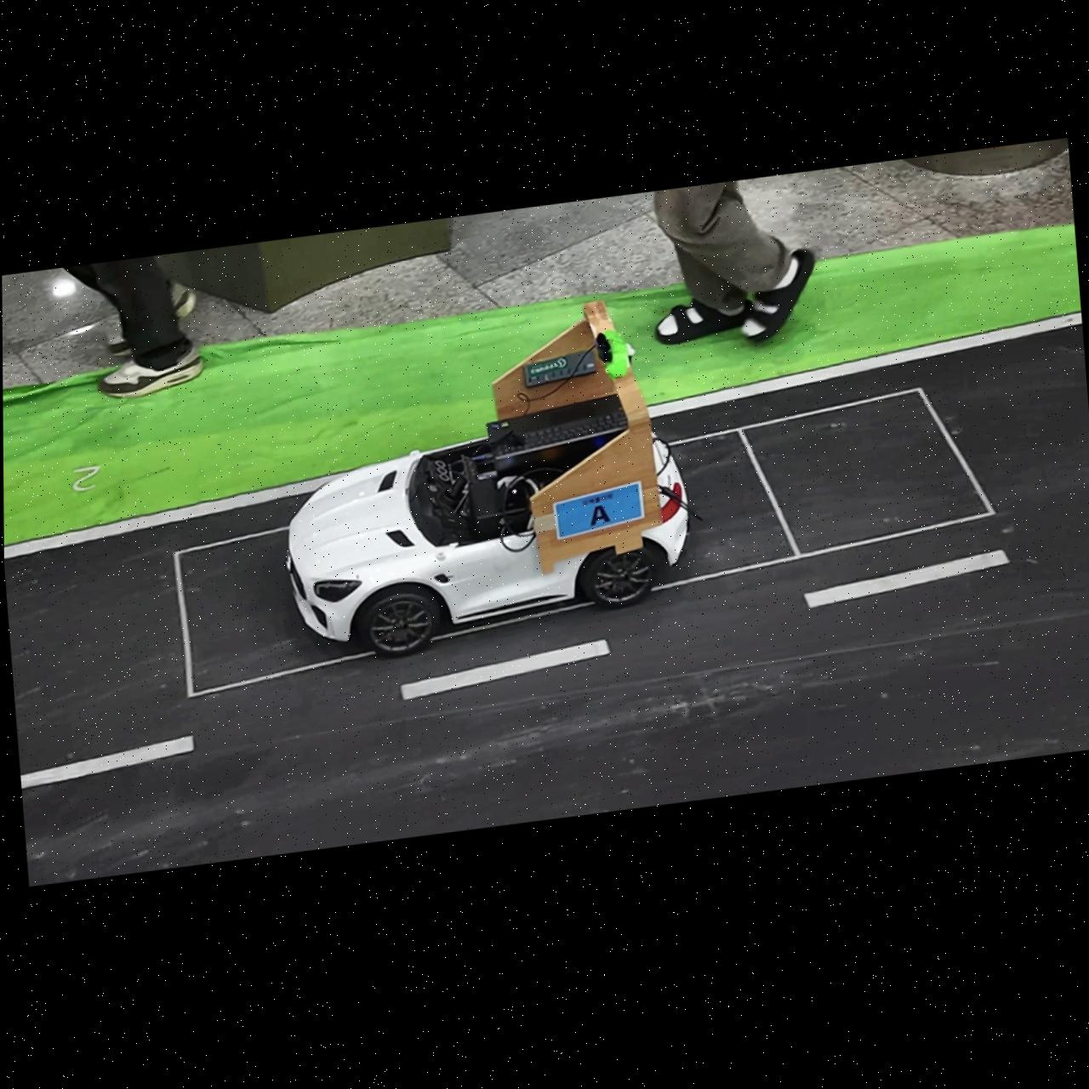broken_line: (400, 640, 609, 699), (804, 550, 1008, 608), (21, 735, 193, 789)
